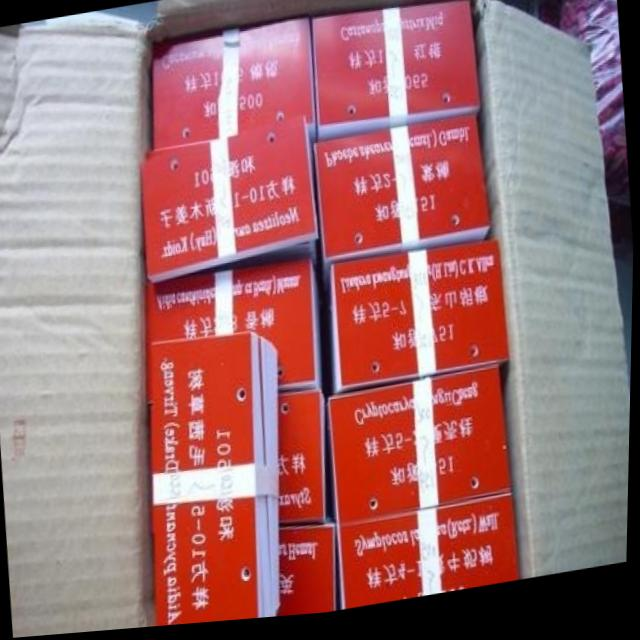box: (151, 335, 285, 629), (316, 120, 490, 313), (139, 119, 321, 290), (330, 371, 514, 532), (332, 247, 509, 398), (145, 264, 330, 405), (311, 7, 481, 147), (154, 23, 317, 155), (340, 500, 522, 613), (281, 391, 327, 530), (277, 528, 338, 622)
